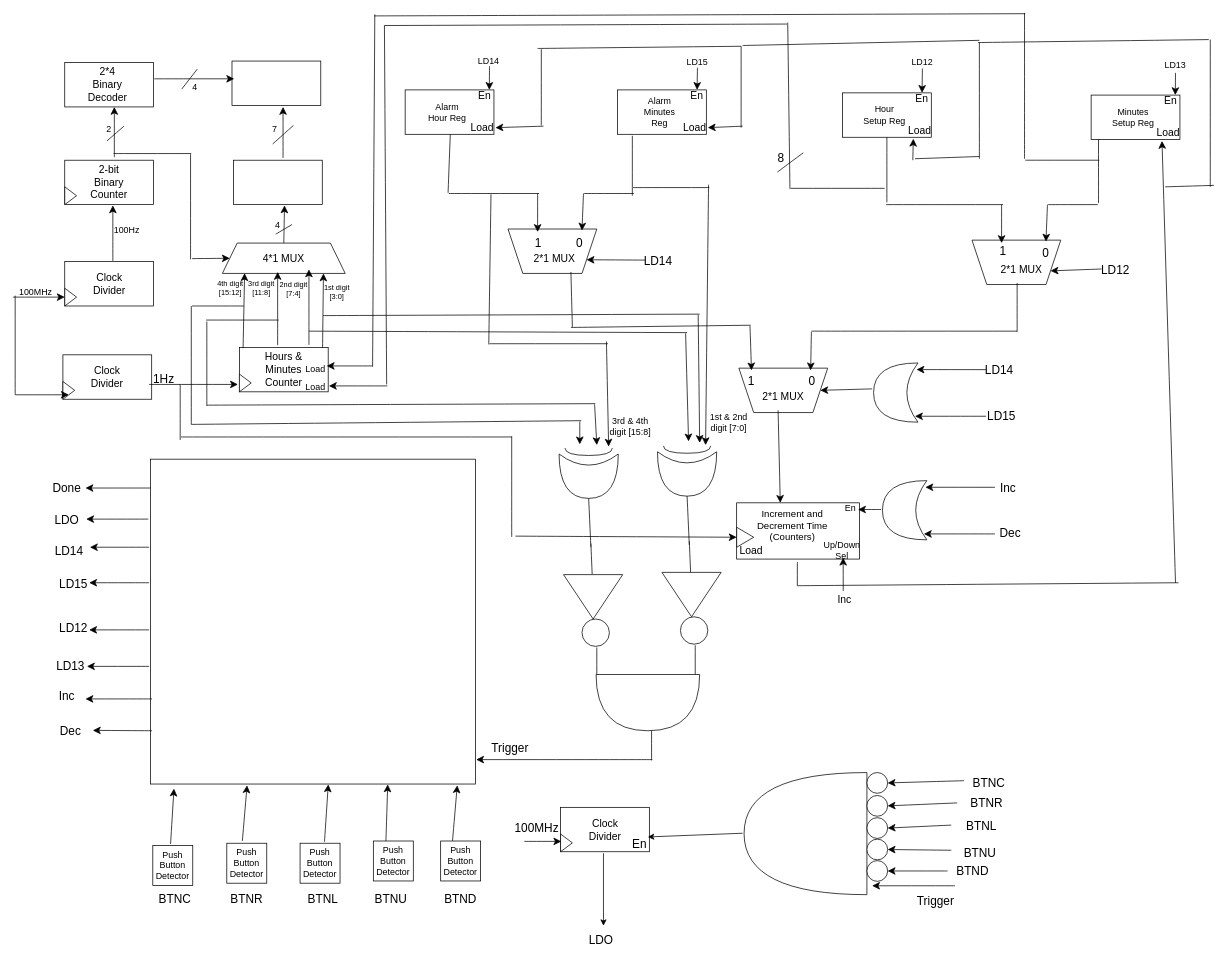
This 1227x963 diagram has some shape labels left out. The centre of each missing label's shape, as x and y in pixels:
"4-Digit 7-Segment Display" belongs at (x=276, y=82).
"Binary to 7-Segment" belongs at (x=277, y=182).
"Control Unit" belongs at (x=312, y=621).
